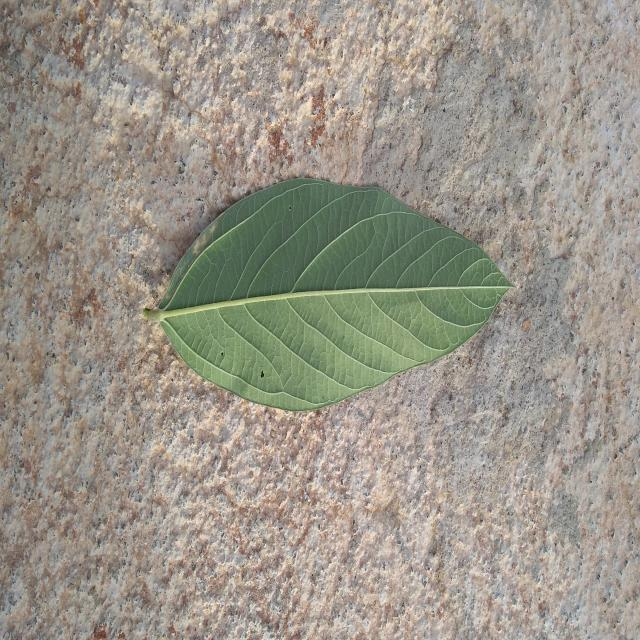pea: (144, 180, 511, 411)
